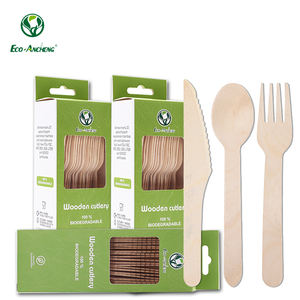Wooden Utensils: (172, 70, 296, 293)
